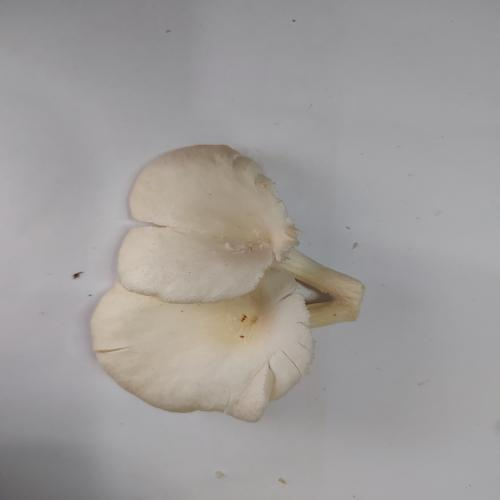Oyster Mushroom: (89, 143, 366, 422)
